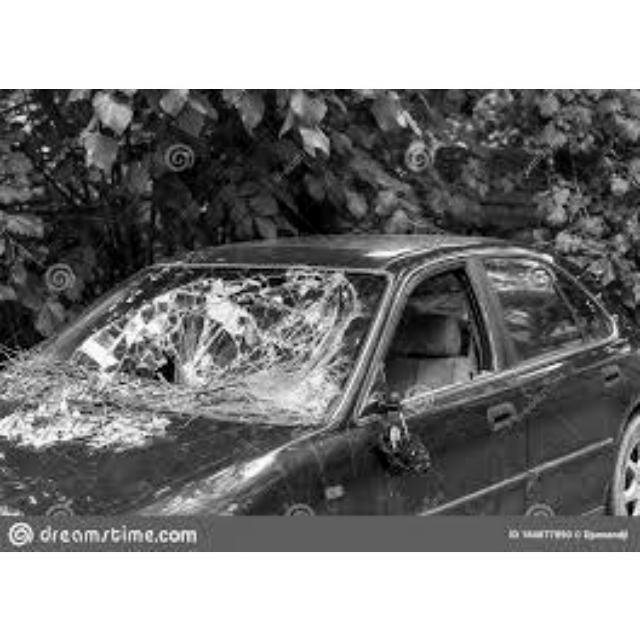Front-windscreen-damage: (64, 256, 405, 423)
Sidemirror-Damage: (379, 419, 444, 486)
